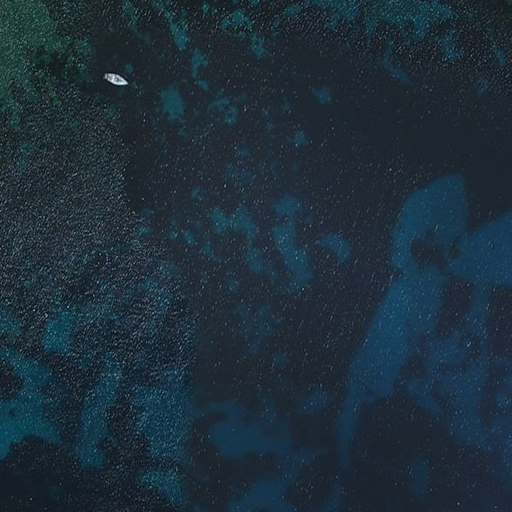ship: (100, 70, 130, 88)
